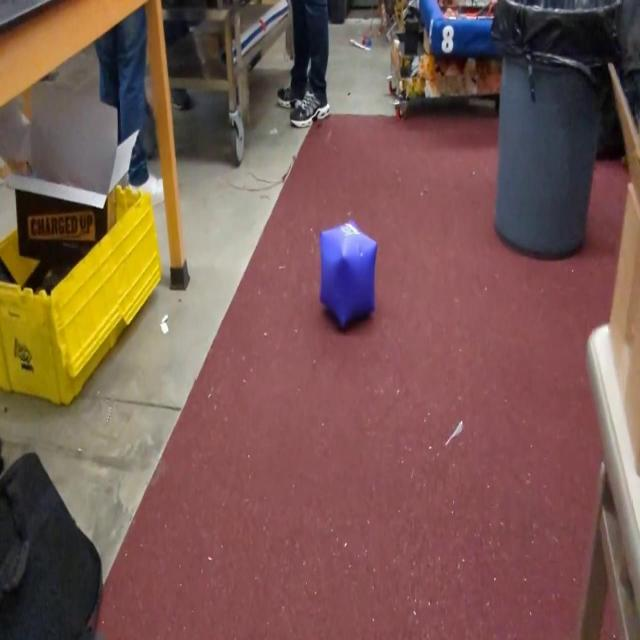frc_cube: (318, 220, 380, 330)
